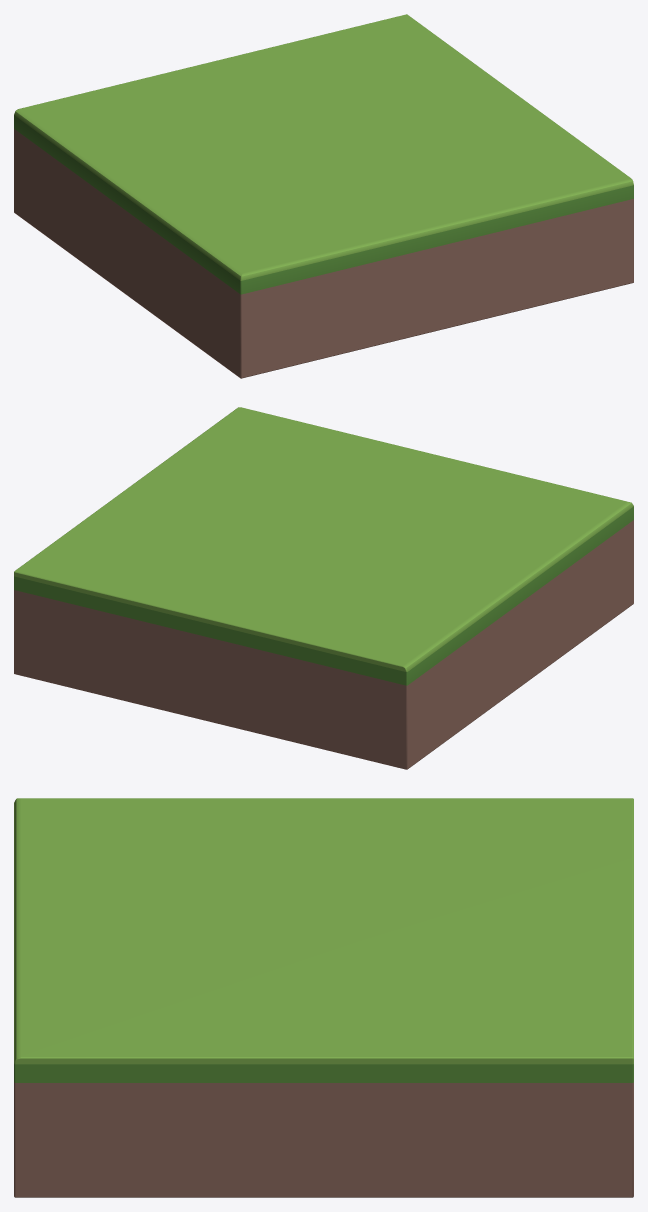
The model's file is grass_tile_corner_01.glb.
The picture shows the model from 3 angles, top to bottom: view 1: azimuth 30°, elevation 25°; view 2: azimuth 150°, elevation 25°; view 3: azimuth 270°, elevation 25°; orthographic projection. The views are drawn at different scales.
Parts seen in each view (by area): view 1: grass_tile_corner_01; view 2: grass_tile_corner_01; view 3: grass_tile_corner_01.
Boxes of the visible parts, x1,y1,x2,y2 form: grass_tile_corner_01: (14,14,633,378); grass_tile_corner_01: (14,407,633,769); grass_tile_corner_01: (14,798,633,1197).
Size of the model in its own units: 1 by 0.25 by 1.
